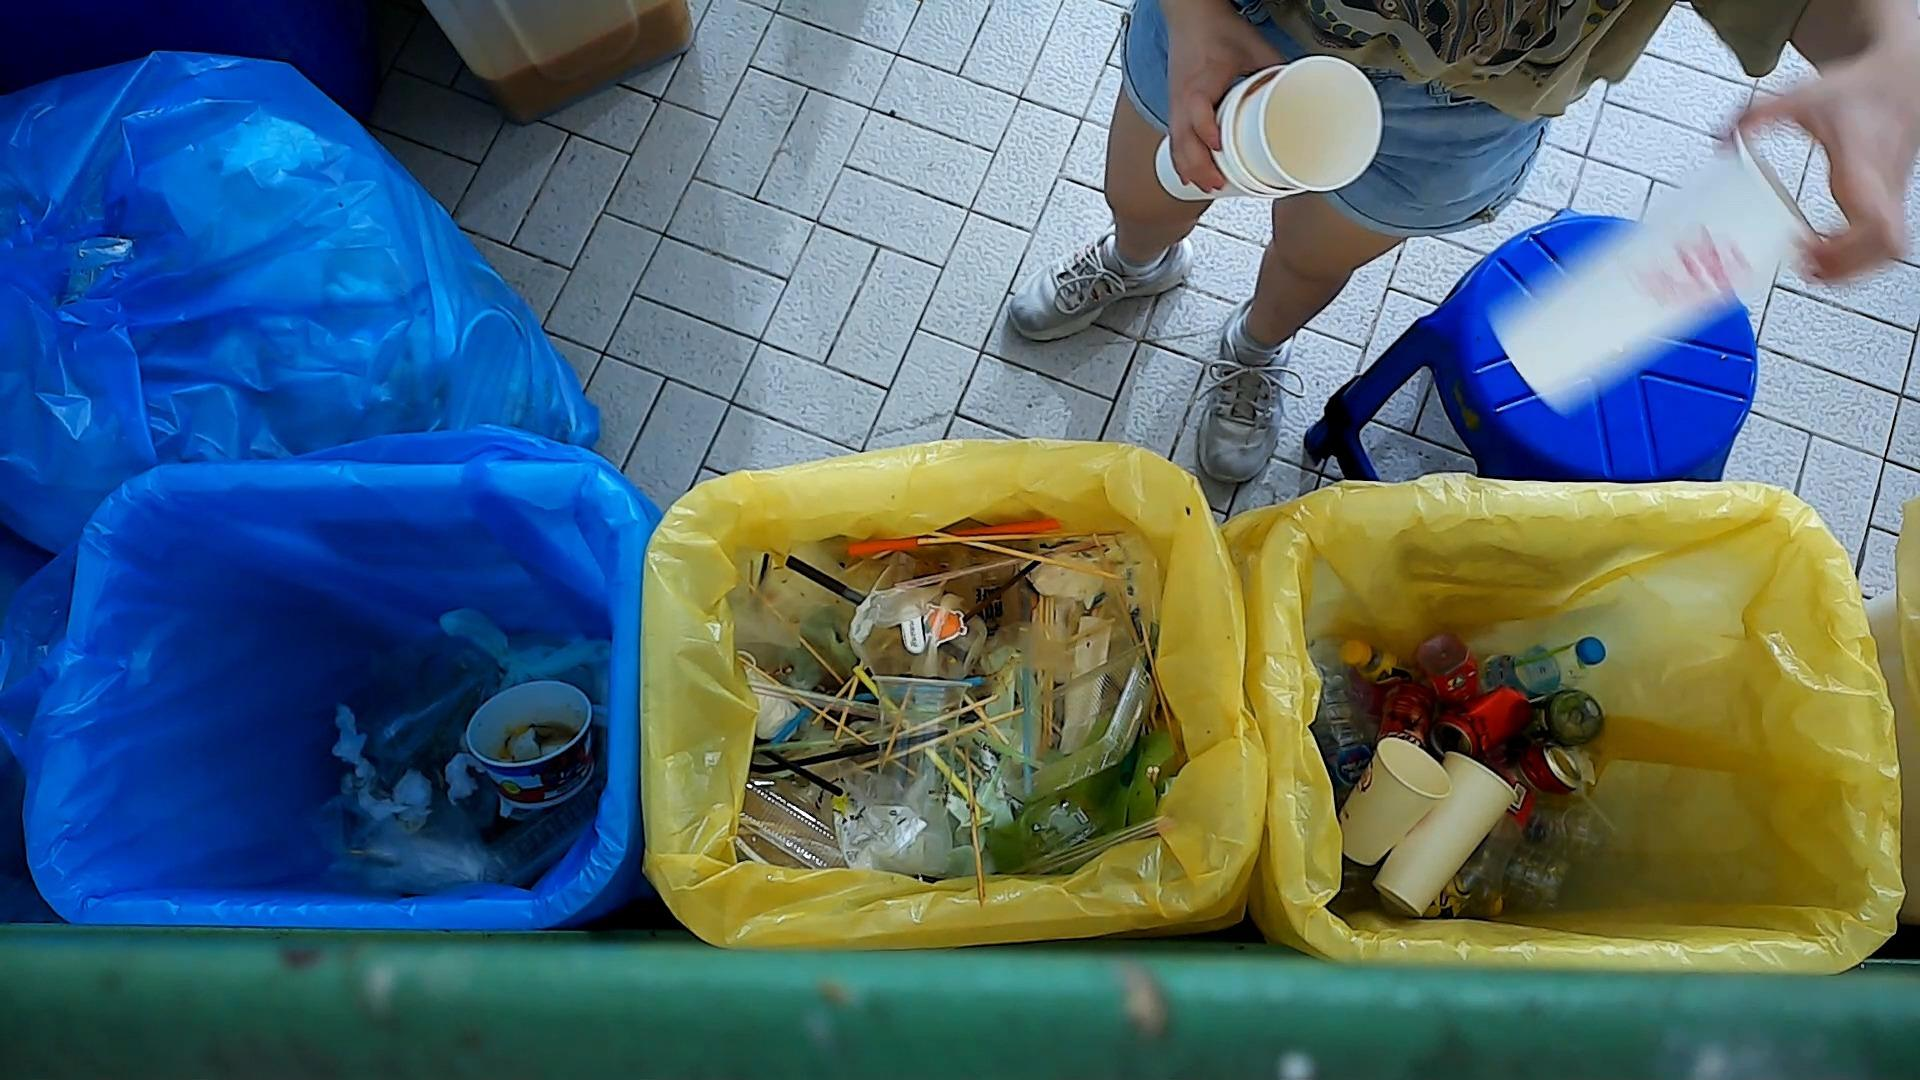can: (1427, 682, 1539, 762), (1371, 676, 1439, 757), (1519, 736, 1589, 802)
dirty food container: (463, 678, 597, 814)
food container: (985, 644, 1158, 810)
plastic bag: (806, 766, 959, 881)
plastic bottle: (1304, 630, 1379, 811), (1472, 634, 1609, 704)
plastic cup: (847, 562, 992, 679), (865, 671, 976, 820)
sticks: (735, 653, 926, 781), (924, 527, 1127, 584), (858, 705, 1027, 770), (882, 691, 1005, 742), (746, 676, 881, 720), (915, 526, 1131, 547), (963, 746, 988, 909), (1139, 620, 1175, 733)
straw: (851, 665, 968, 800), (748, 728, 952, 777), (885, 550, 1026, 601), (960, 558, 1040, 625), (785, 553, 868, 608), (758, 748, 845, 798), (1019, 665, 1036, 799)
tissue paper: (355, 764, 435, 831), (327, 702, 380, 782), (442, 750, 487, 810)
zero waste cup: (1480, 112, 1844, 423), (1147, 44, 1394, 214), (1365, 749, 1524, 920), (1335, 735, 1455, 866)
